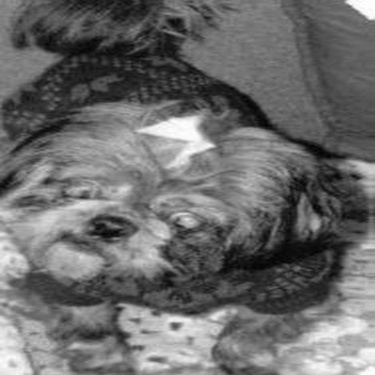dog: (1, 3, 373, 374), (20, 1, 254, 71)
